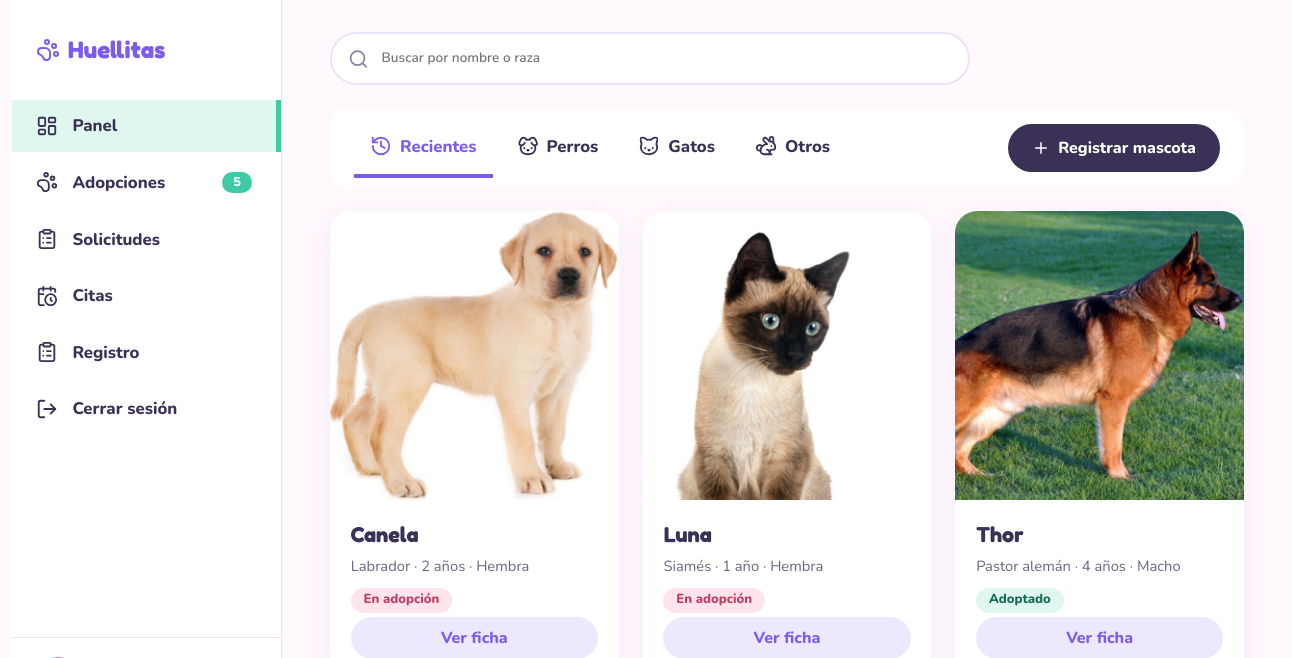
Test: Catálogo de adopciones › muestra solo mascotas "En adopción" (Thor, Adoptado, no aparece)
Step 1. Click the button "Adopciones 5" → {"x": 146, "y": 182}, box [12,157,281,208]
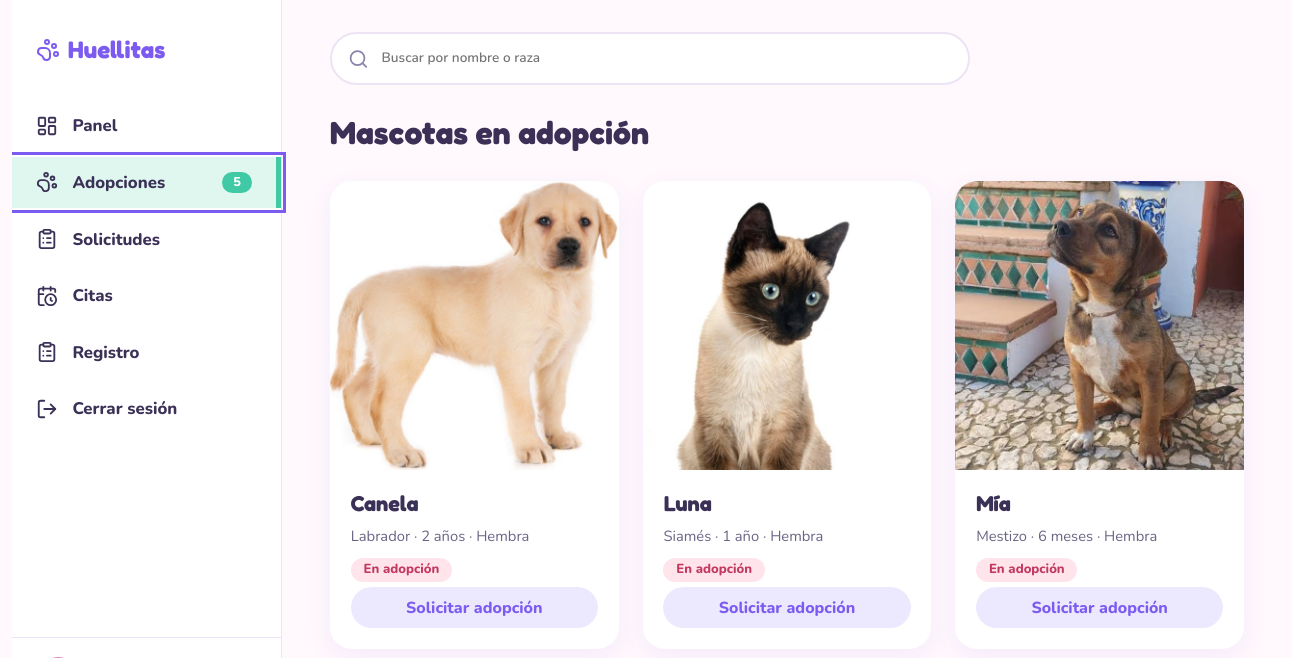
Expected: the heading "Canela" is shown, [351,490,419,516]
Expected: the heading "Thor" is gone
